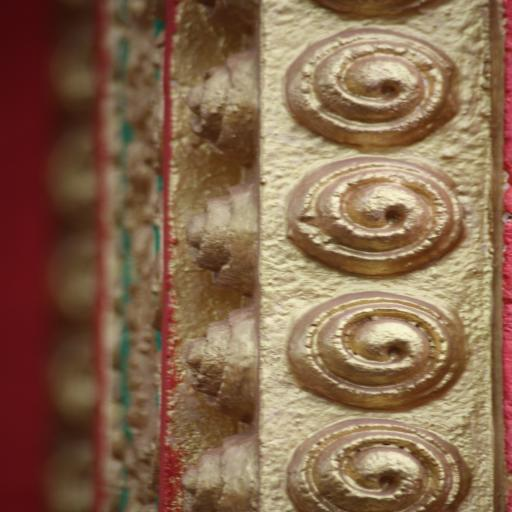hoa: (280, 16, 469, 148), (281, 285, 464, 414), (278, 152, 468, 272), (289, 415, 468, 512), (182, 170, 268, 295), (183, 47, 264, 169), (184, 301, 254, 426), (177, 429, 257, 512)
